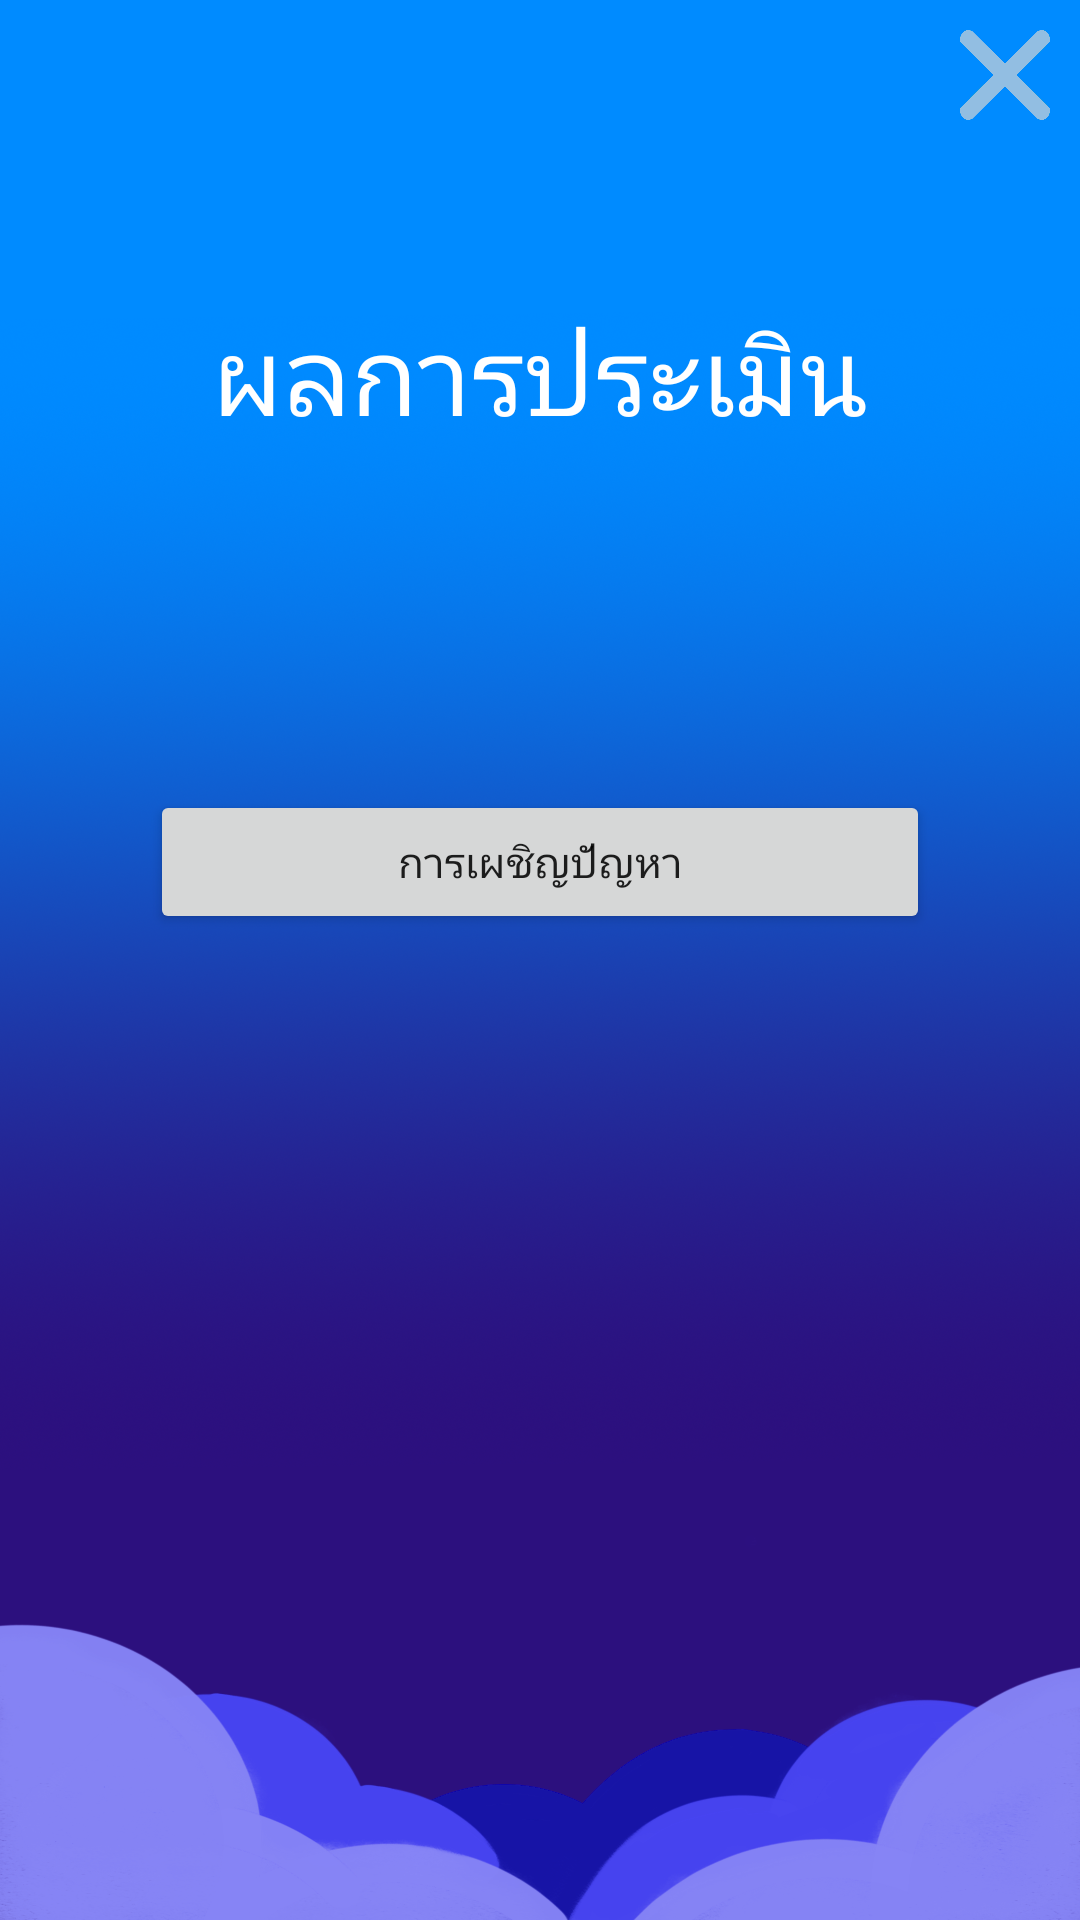

Where to tap for icons on this 1080x1920 app screen, as (x=x, y=y):
exit: (x=1005, y=75)
